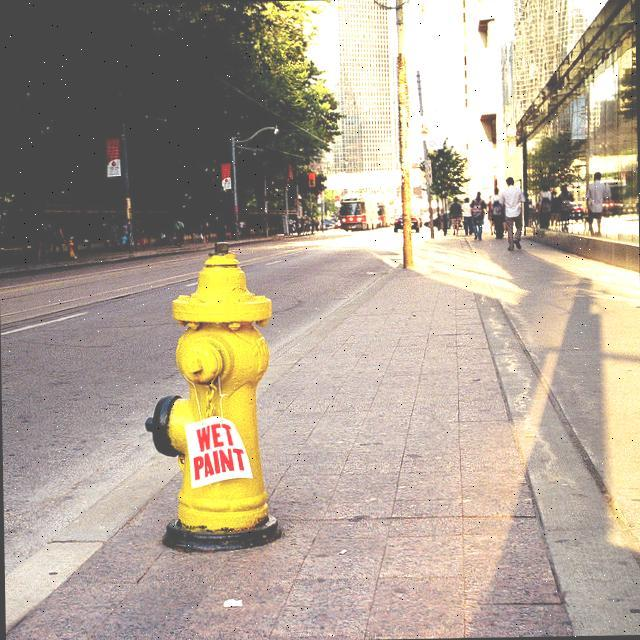fire_hydrant: (136, 239, 275, 551)
